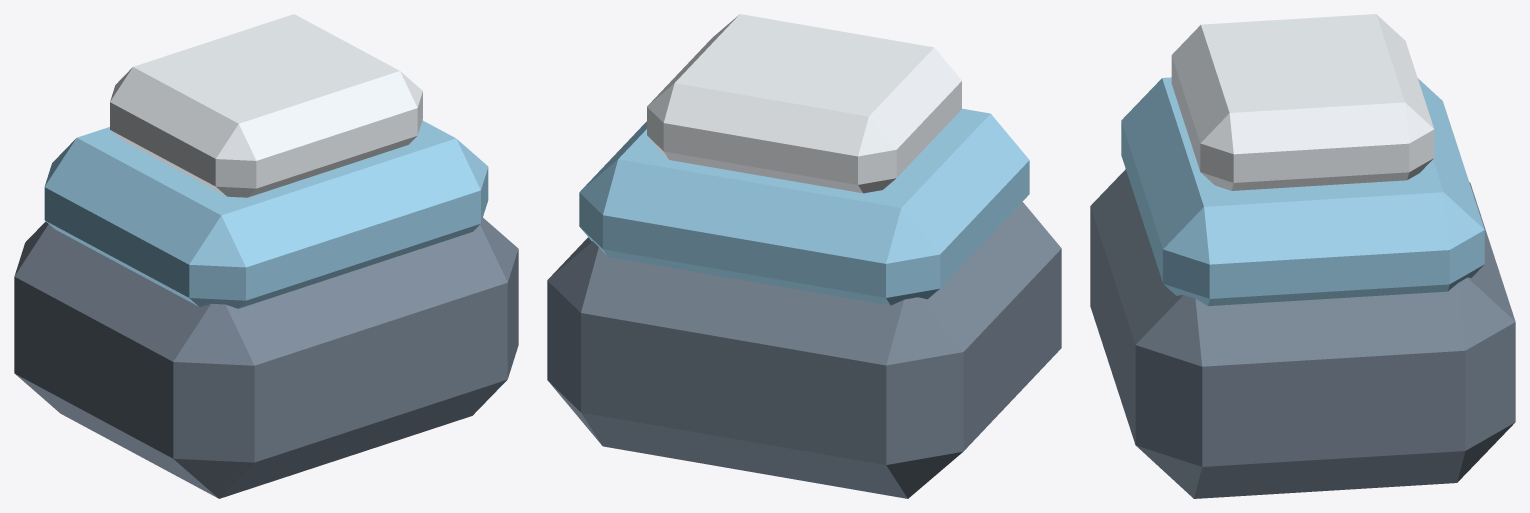
Rendered from env_r2_ice_boulder.glb.
3 renders of one model, left to right at view 1: azimuth 30°, elevation 25°; view 2: azimuth 150°, elevation 25°; view 3: azimuth 270°, elevation 25°, orthographic. The views are drawn at different scales.
Parts seen in each view (by area): view 1: env_r2_ice_boulder; view 2: env_r2_ice_boulder; view 3: env_r2_ice_boulder.
Part boxes in pixels (x1,y1,x2,y2): env_r2_ice_boulder: (14,14,518,498); env_r2_ice_boulder: (547,14,1061,498); env_r2_ice_boulder: (1090,14,1515,498).
Size of the model in its own units: 1.6 by 1.3 by 1.4.
Materials: 1 (1 with a texture image).
